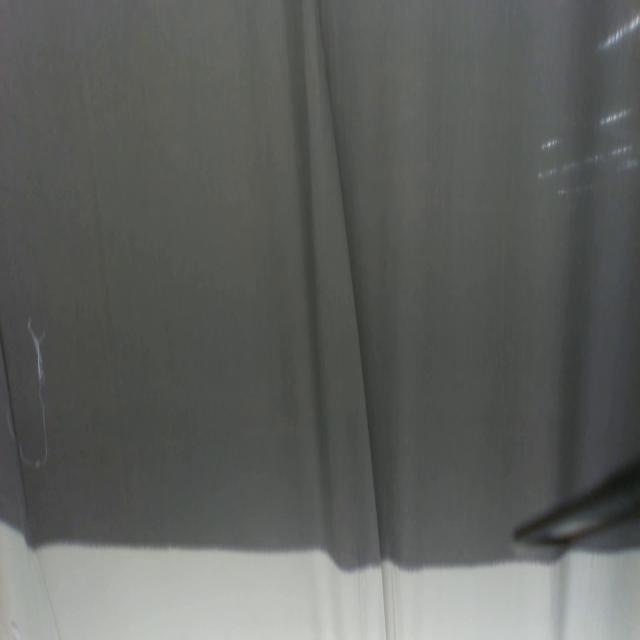crease: (313, 0, 390, 639), (0, 328, 36, 548)
